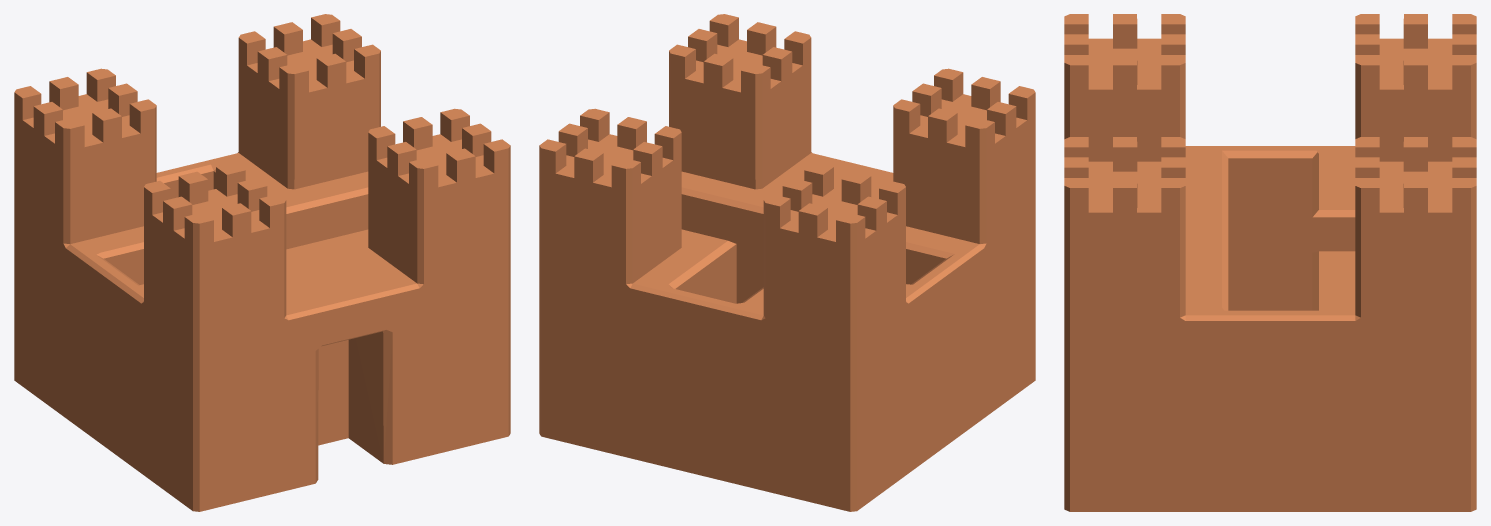
File: Sandcastle.FBX
3 views of the same model, side by side, from view 1: azimuth 30°, elevation 25°; view 2: azimuth 150°, elevation 25°; view 3: azimuth 270°, elevation 25° (orthographic). The views are drawn at different scales.
Parts seen in each view (by area): view 1: Sandcastle; view 2: Sandcastle; view 3: Sandcastle.
Part boxes in pixels (left/top/right/bottom): Sandcastle: left=14, top=14, right=510, bottom=511; Sandcastle: left=539, top=14, right=1035, bottom=511; Sandcastle: left=1064, top=14, right=1476, bottom=511.
Bounding box in the file's own units: 1.41 × 1.22 × 1.41.
